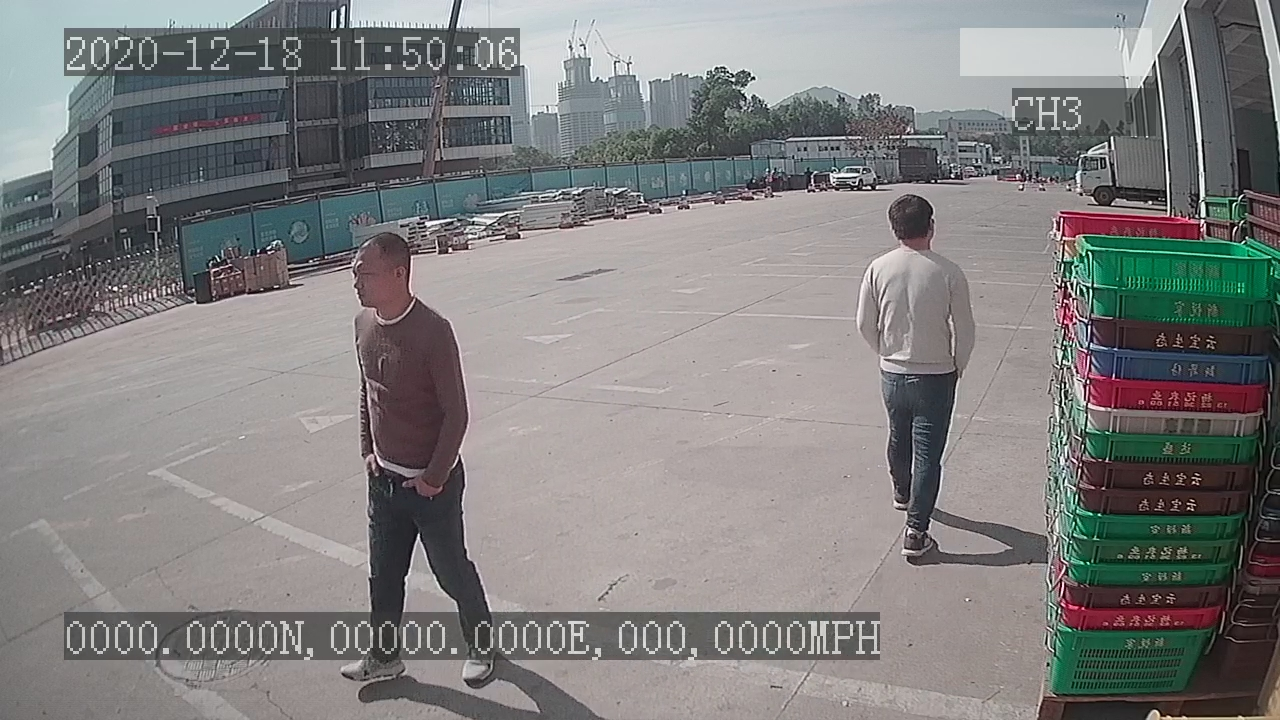person: (849, 188, 979, 569)
